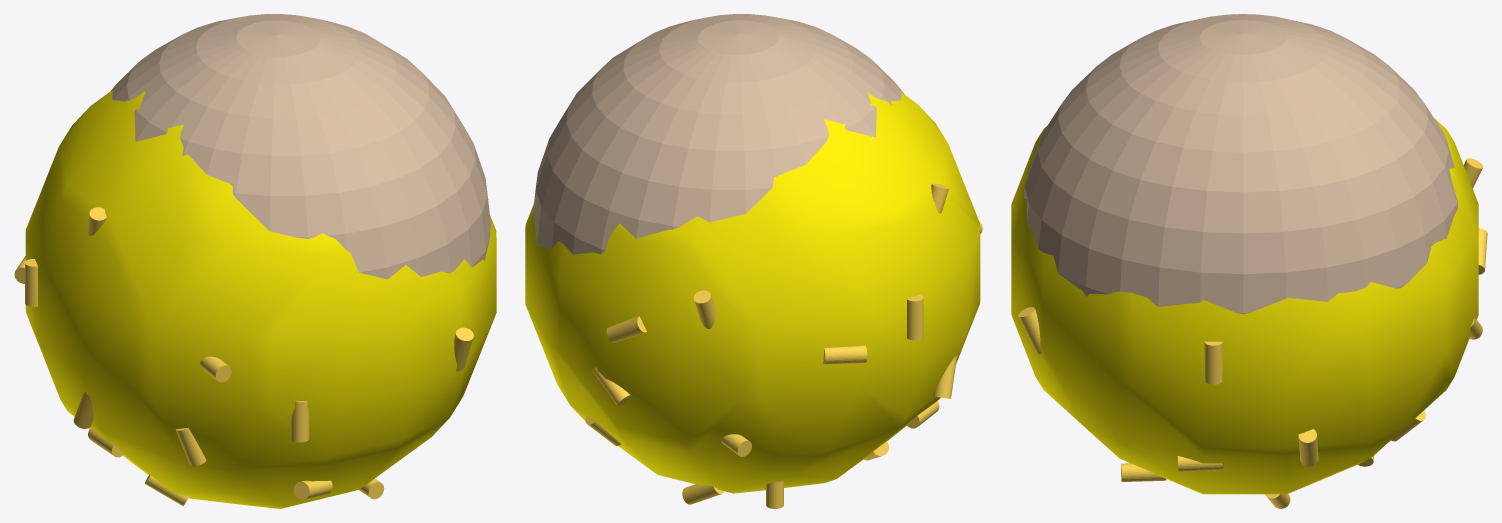
File: Enemy3.fbx
3 views of the same model, side by side, from view 1: azimuth 30°, elevation 25°; view 2: azimuth 150°, elevation 25°; view 3: azimuth 270°, elevation 25° (orthographic). The views are drawn at different scales.
Parts seen in each view (by area): view 1: Mball, Sphere, Cylinder.022, Cylinder.016, Cylinder.002, Cylinder.001, Cylinder.018, Cylinder.005; view 2: Mball, Sphere, Cylinder.017, Cylinder.018, Cylinder.011, Cylinder, Cylinder.010; view 3: Sphere, Mball, Cylinder.013, Cylinder.012, Cylinder.002, Cylinder.014.
Part boxes in pixels (bbox=[...]): Mball: bbox=[25, 90, 496, 508]; Sphere: bbox=[111, 14, 490, 279]; Cylinder.022: bbox=[291, 400, 309, 442]; Cylinder.016: bbox=[175, 428, 206, 466]; Cylinder.002: bbox=[454, 327, 473, 371]; Cylinder.001: bbox=[293, 480, 332, 499]; Cylinder.018: bbox=[25, 259, 37, 306]; Cylinder.005: bbox=[200, 356, 231, 382]; Mball: bbox=[525, 92, 980, 493]; Sphere: bbox=[532, 14, 904, 254]; Cylinder.017: bbox=[823, 345, 867, 364]; Cylinder.018: bbox=[907, 294, 923, 340]; Cylinder.011: bbox=[606, 316, 646, 342]; Cylinder: bbox=[693, 290, 715, 328]; Cylinder.010: bbox=[682, 484, 724, 504]; Sphere: bbox=[1023, 14, 1457, 314]; Mball: bbox=[1011, 118, 1478, 494]; Cylinder.013: bbox=[1204, 341, 1222, 384]; Cylinder.012: bbox=[1298, 429, 1318, 466]; Cylinder.002: bbox=[1018, 307, 1042, 353]; Cylinder.014: bbox=[1121, 463, 1166, 481].
Size of the model in its own units: 258 by 269 by 257.
